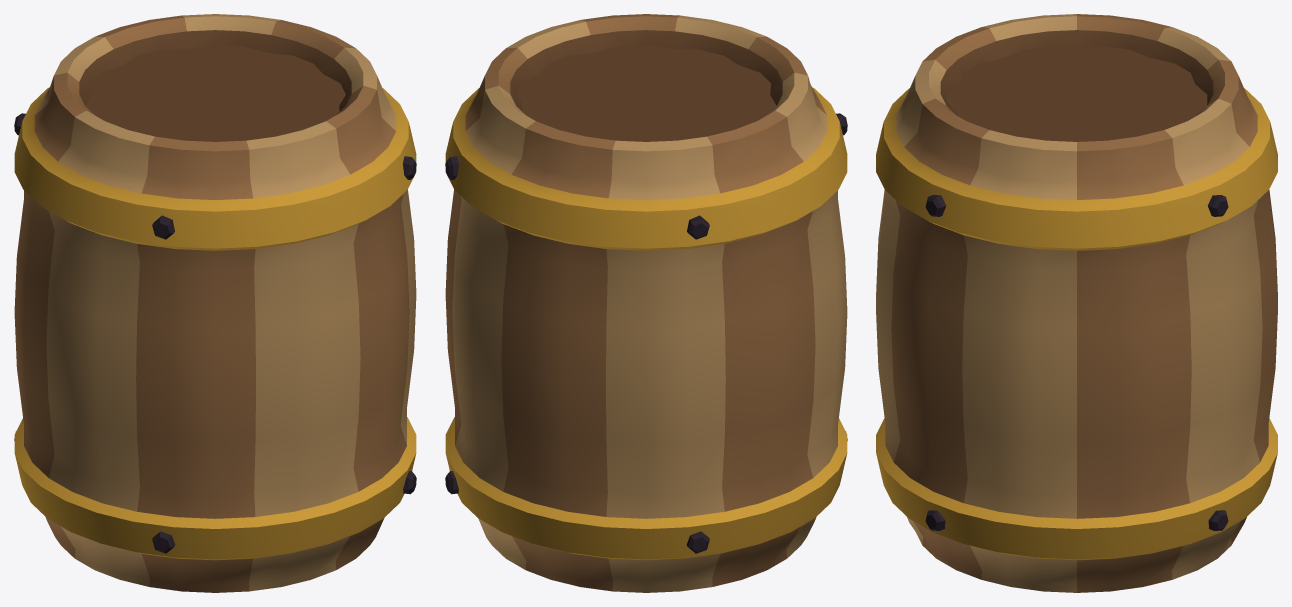
File: Barrel_29.glb
3 views of the same model, side by side, from view 1: azimuth 30°, elevation 25°; view 2: azimuth 150°, elevation 25°; view 3: azimuth 270°, elevation 25° (orthographic).
Parts seen in each view (by area): view 1: Barrel_29; view 2: Barrel_29; view 3: Barrel_29.
Part boxes in pixels (left/top/right/bottom): Barrel_29: left=14, top=14, right=416, bottom=592; Barrel_29: left=445, top=14, right=847, bottom=592; Barrel_29: left=876, top=14, right=1277, bottom=592.
Size of the model in its own units: 2.06 by 2.53 by 2.05.
